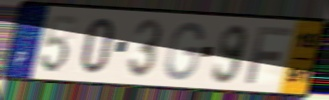0: (78, 16, 117, 76)
3: (125, 17, 165, 81)
5: (39, 13, 81, 74)
9: (211, 23, 250, 85)
F: (244, 25, 296, 86)
G: (163, 20, 206, 82)
